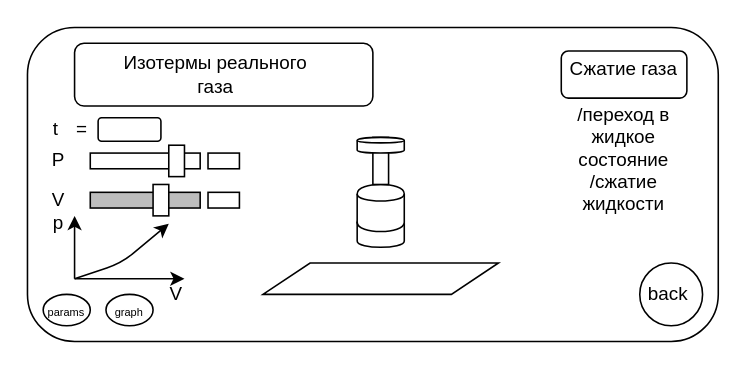
The diagram is 746 pixels wide and 369 high, and some of its shapes have lost their labels. The centre of each missing label's shape, as x and y in pixels:
"c. 208" goes at point 379,277.
"const" goes at point 129,128.
